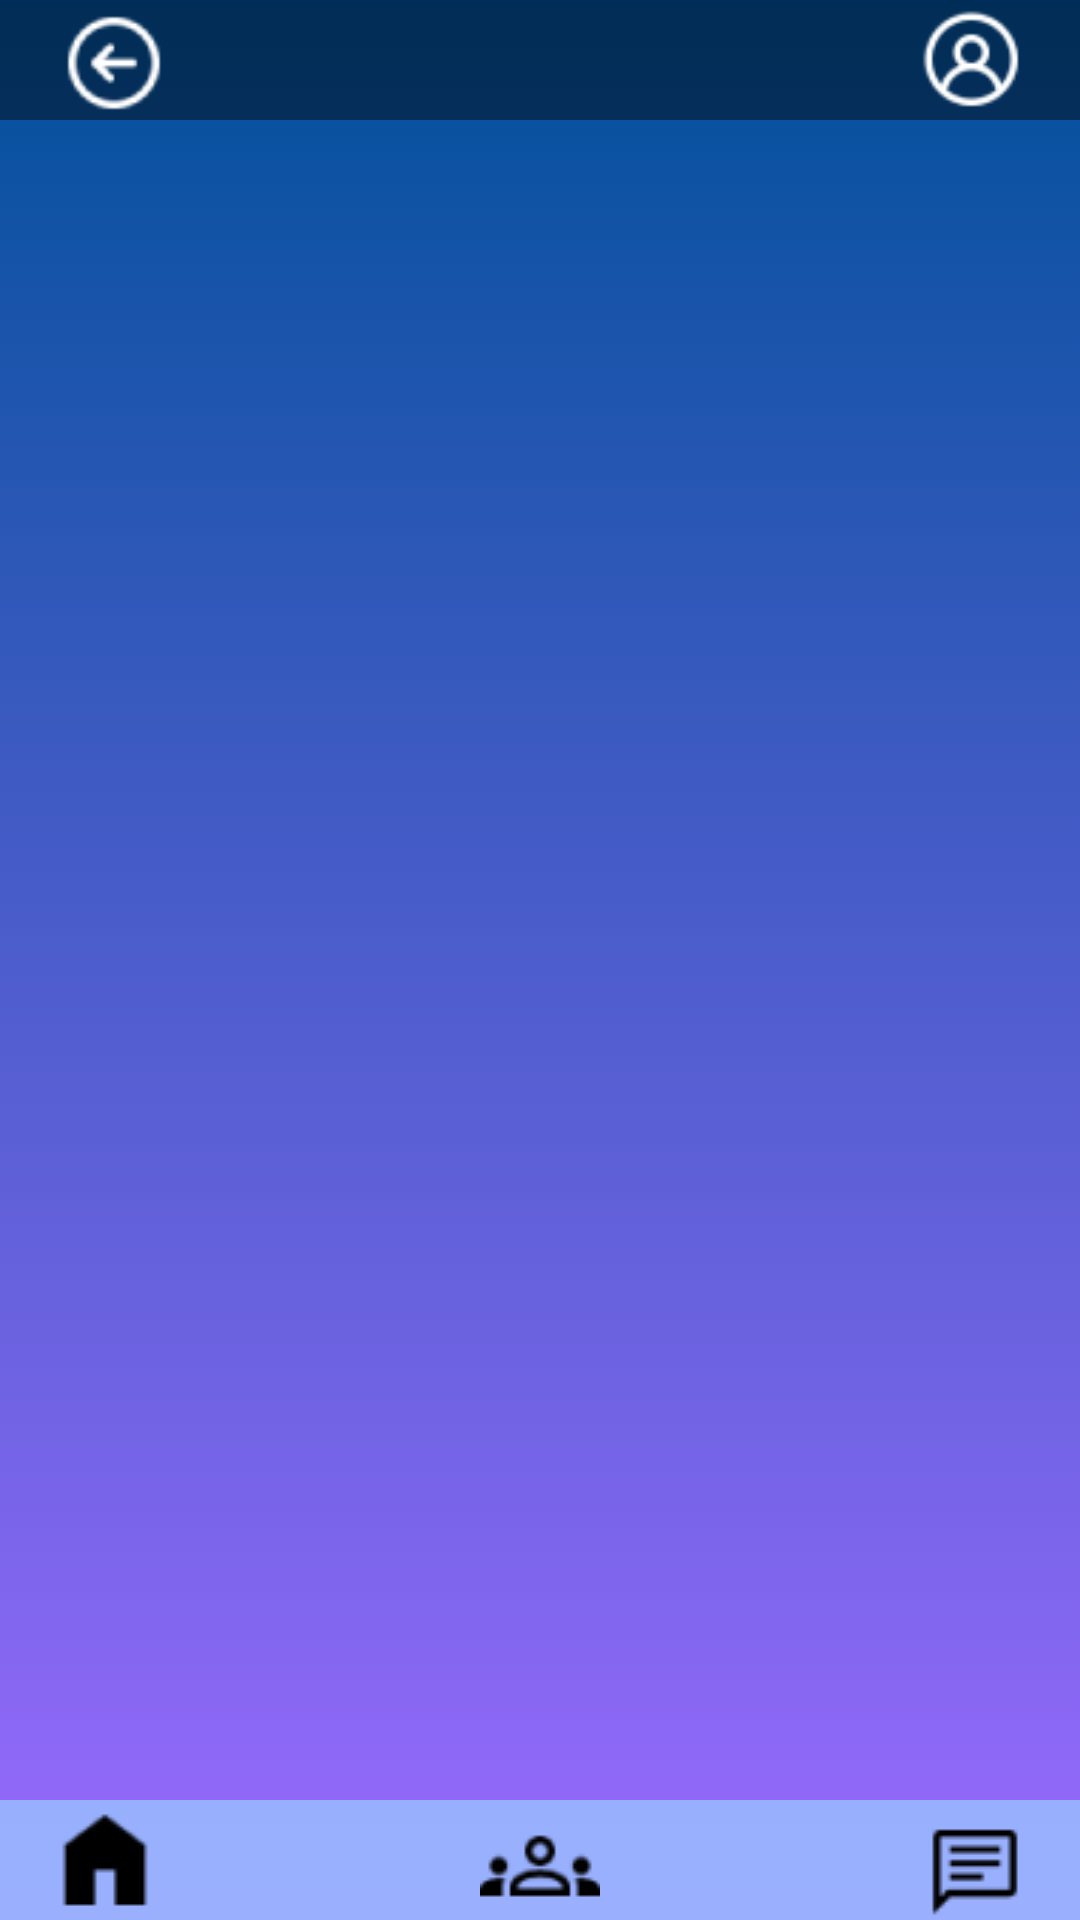

Icon click points for this 1080 x 1920 phone screenshot, format (x=x, y=y):
backarrow: (x=114, y=63)
chaticon: (x=975, y=1872)
friendsicon: (x=540, y=1866)
profileicon: (x=971, y=59)
selectedhomeicon: (x=105, y=1860)
